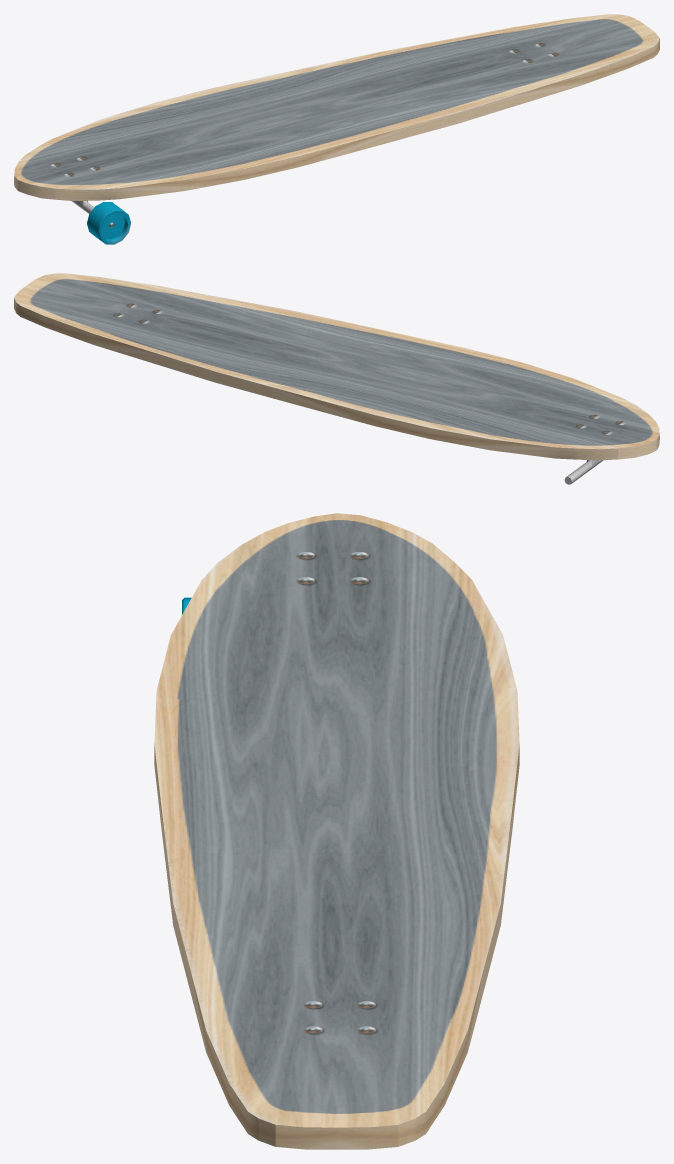
File: SkateBoard04.fbx
The picture shows the model from 3 angles, top to bottom: view 1: azimuth 30°, elevation 25°; view 2: azimuth 150°, elevation 25°; view 3: azimuth 270°, elevation 25°; orthographic projection. The views are drawn at different scales.
Parts seen in each view (by area): view 1: Board, Wheel1; view 2: Board, BoardBase; view 3: Board.
Part boxes in pixels (x1,y1,x2,y2): Board: [14, 14, 659, 200]; Wheel1: [87, 202, 130, 244]; Board: [14, 273, 659, 460]; BoardBase: [564, 460, 602, 484]; Board: [154, 513, 519, 1149].
Bounding box in the file's own units: 0.6953 × 0.0538 × 0.1747.
